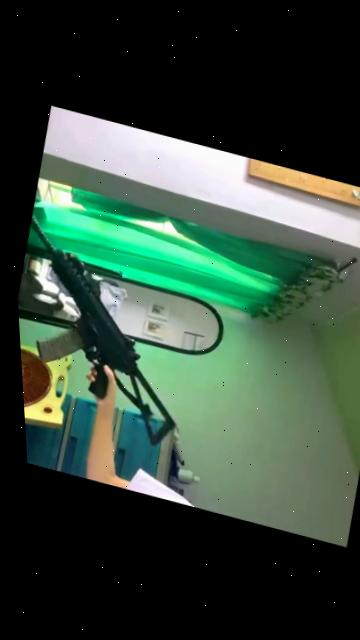rifle: (9, 196, 219, 455)
